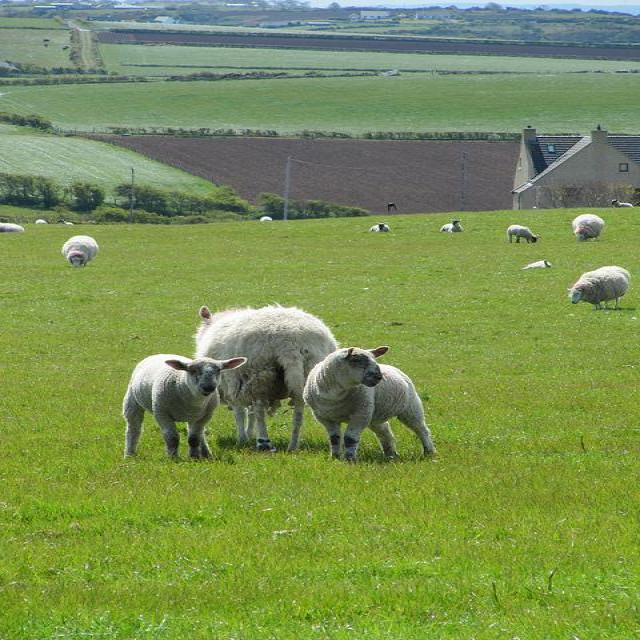Sheep: (194, 304, 338, 454), (301, 346, 444, 462), (116, 352, 251, 465), (565, 266, 631, 311)
